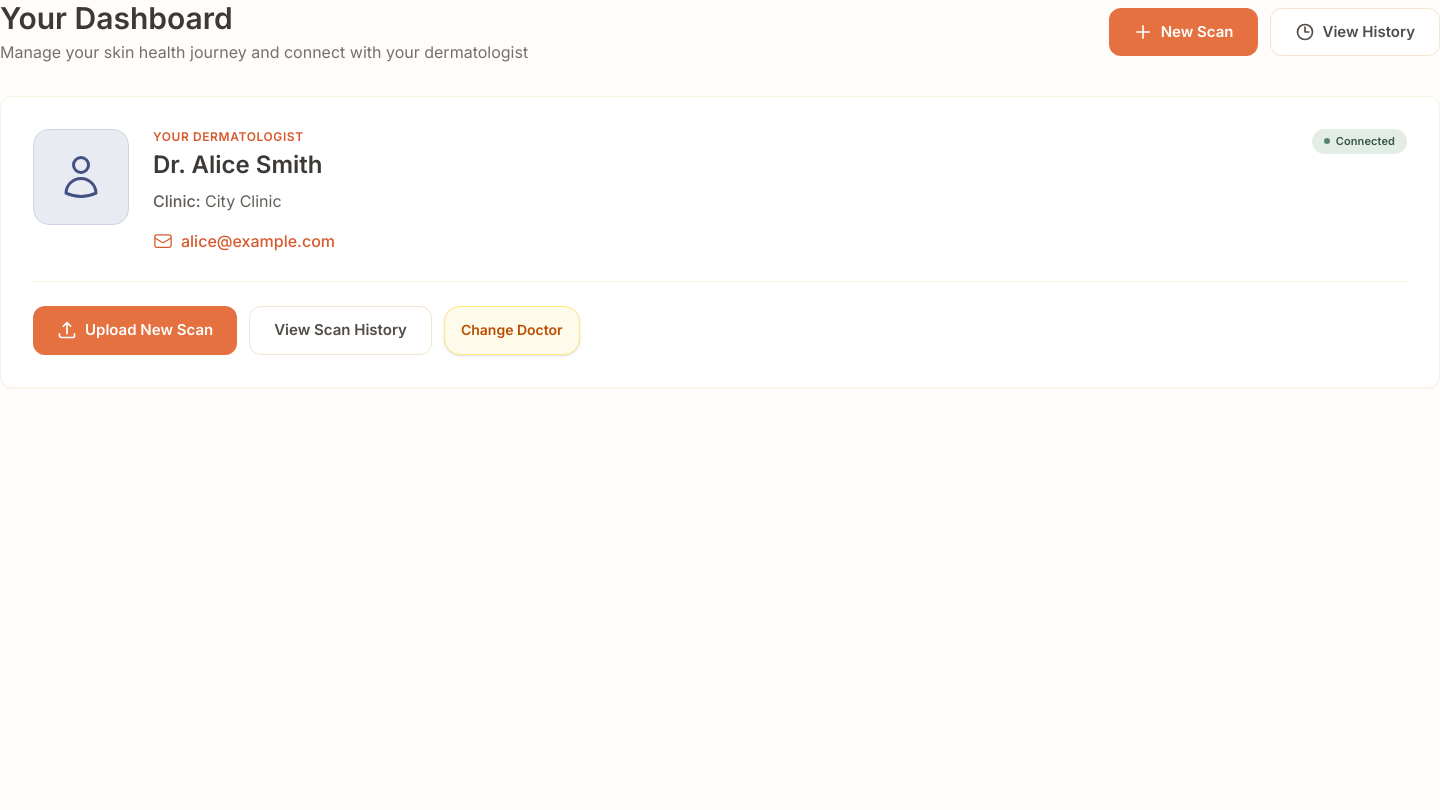
Test: PatientDashboard - Change Doctor Integration › opens modal when Change Doctor button is clicked
Expected: the heading "Dr. Alice Smith" is shown, [153, 149, 322, 181]
// Click Change Doctor button
Click the button "Change Doctor": (512, 330) [444, 306, 580, 354]
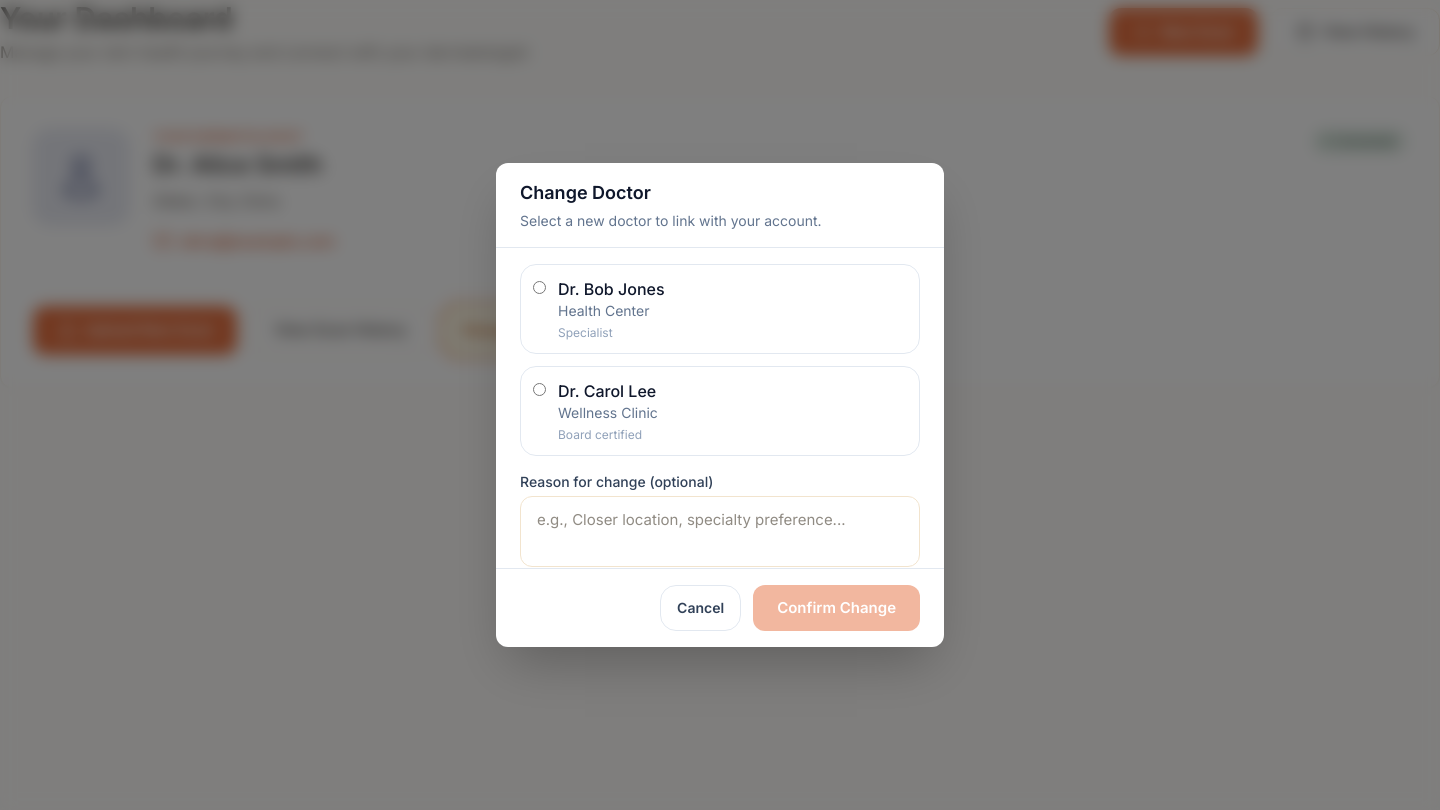
Expected: the dialog is shown
Expected: the text "Select a new doctor to link with your account." is shown, [520, 212, 822, 229]
